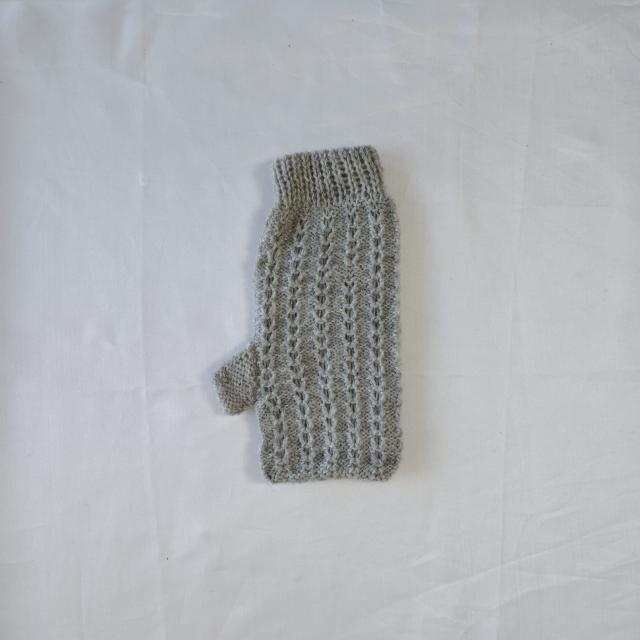Guante: (211, 144, 403, 484)
